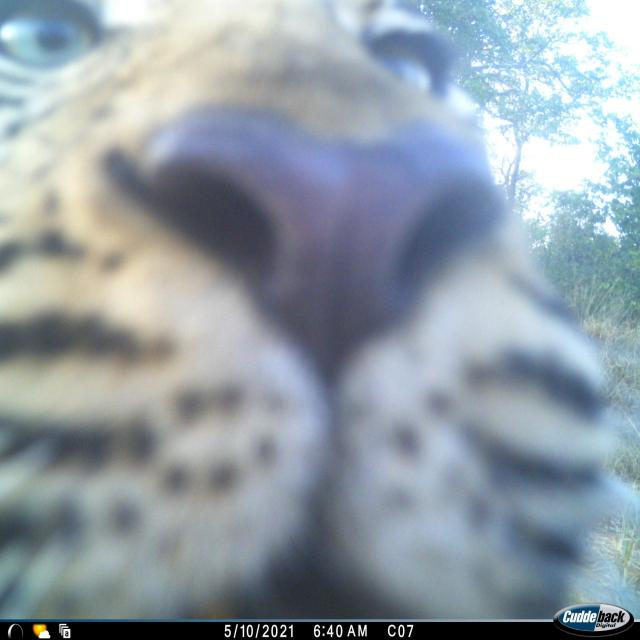Leopard: (13, 0, 601, 640)
